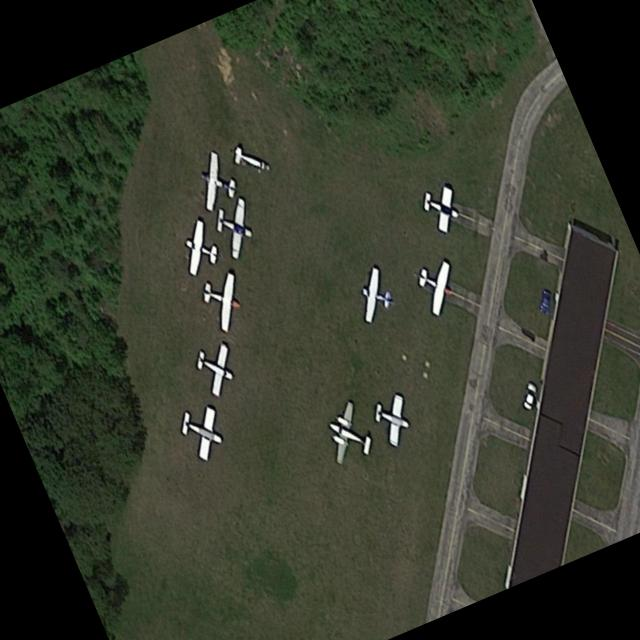plane: (320, 392, 377, 478), (176, 394, 226, 468), (211, 187, 256, 267), (191, 332, 239, 403), (199, 262, 244, 337), (413, 249, 459, 322), (197, 146, 239, 219), (181, 215, 221, 285), (357, 264, 397, 333), (372, 386, 413, 453), (419, 177, 461, 239)
small-vehicle: (520, 377, 538, 413), (537, 285, 552, 318)
